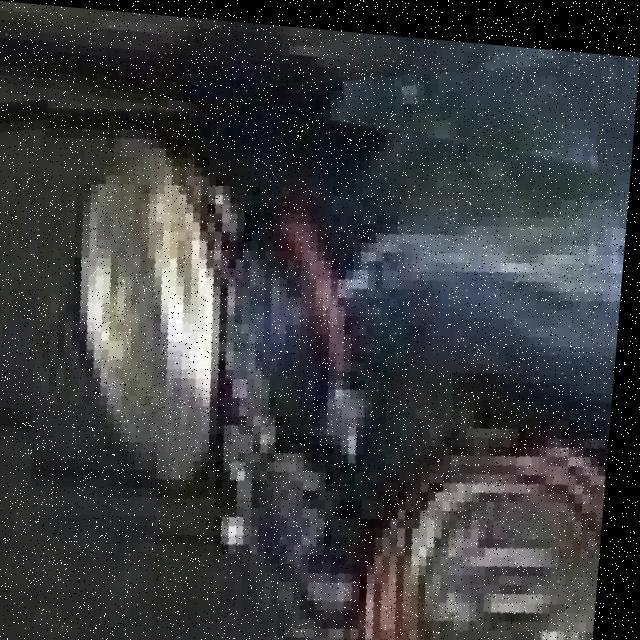can: (33, 106, 616, 640)
